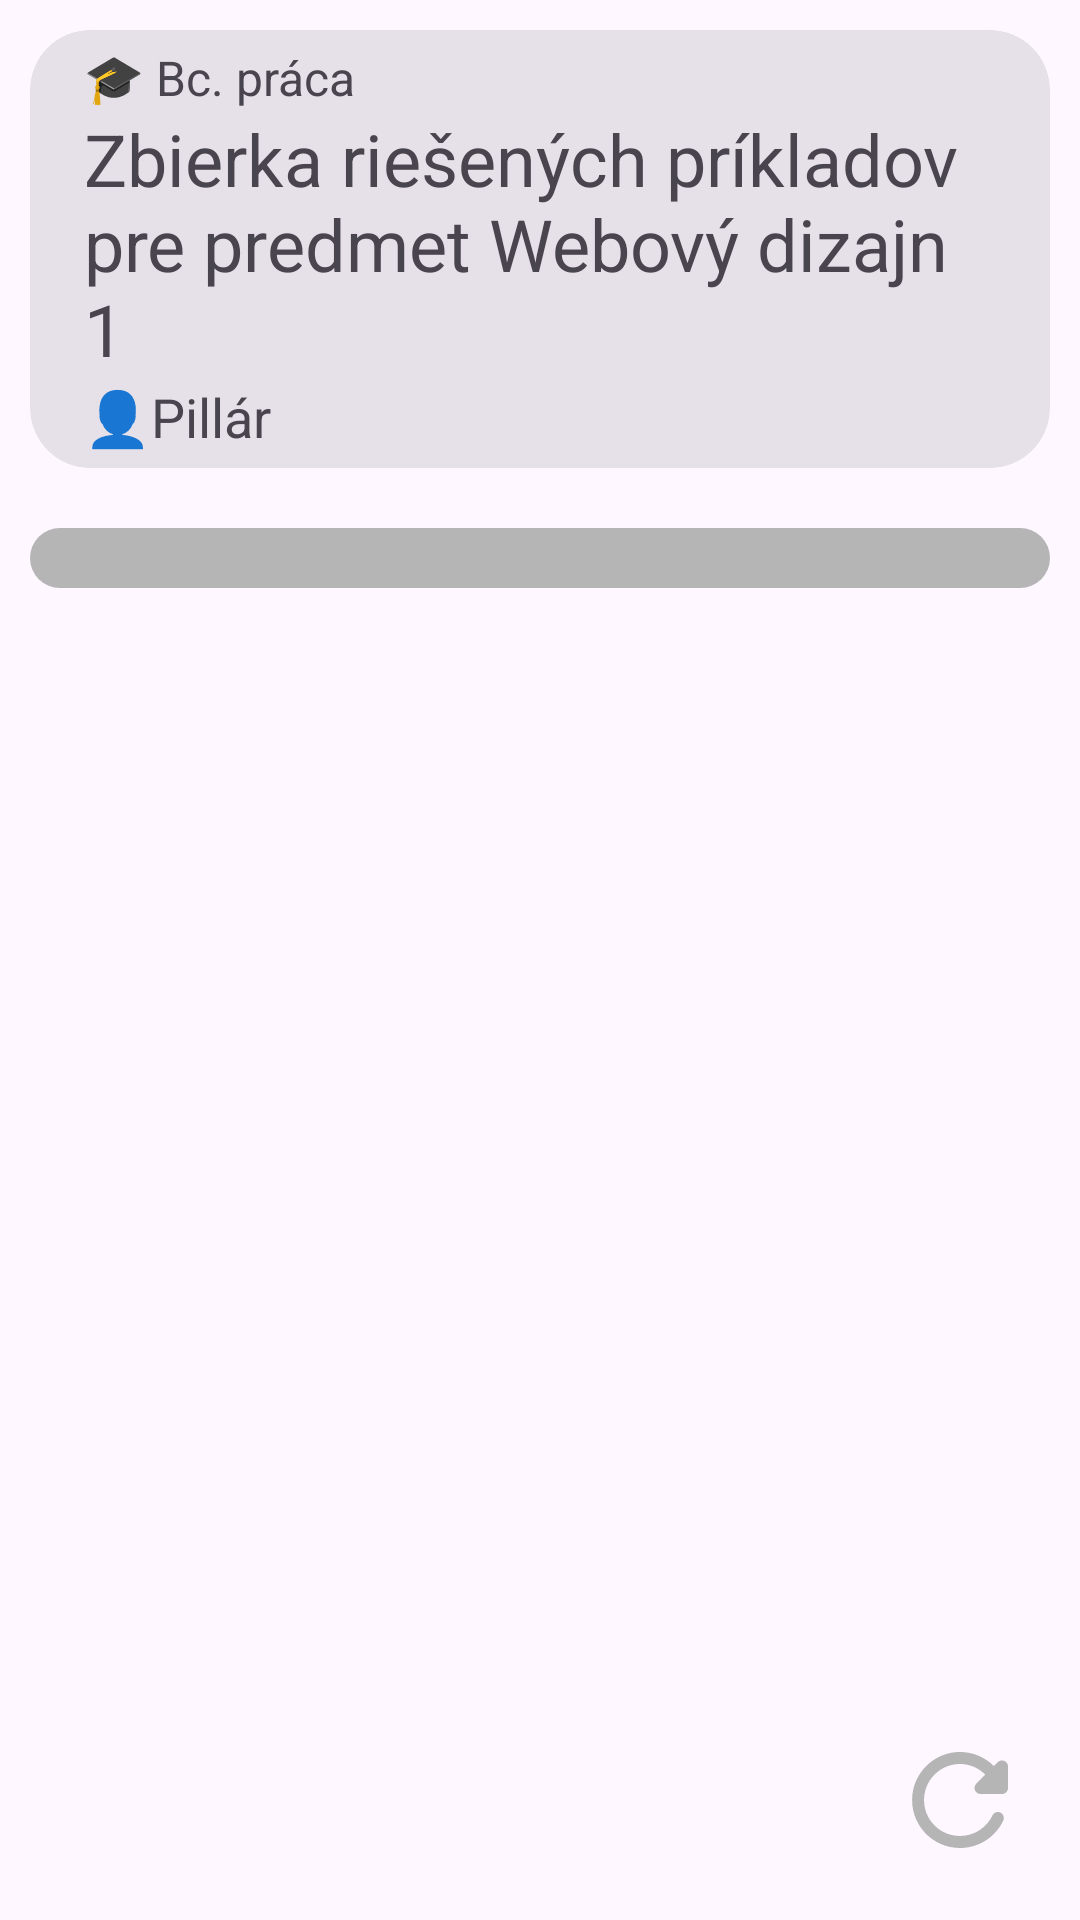

Where to tap for icons on this 1080w x 1920h app screen, as (x,y):
refresh: (960,1800)
